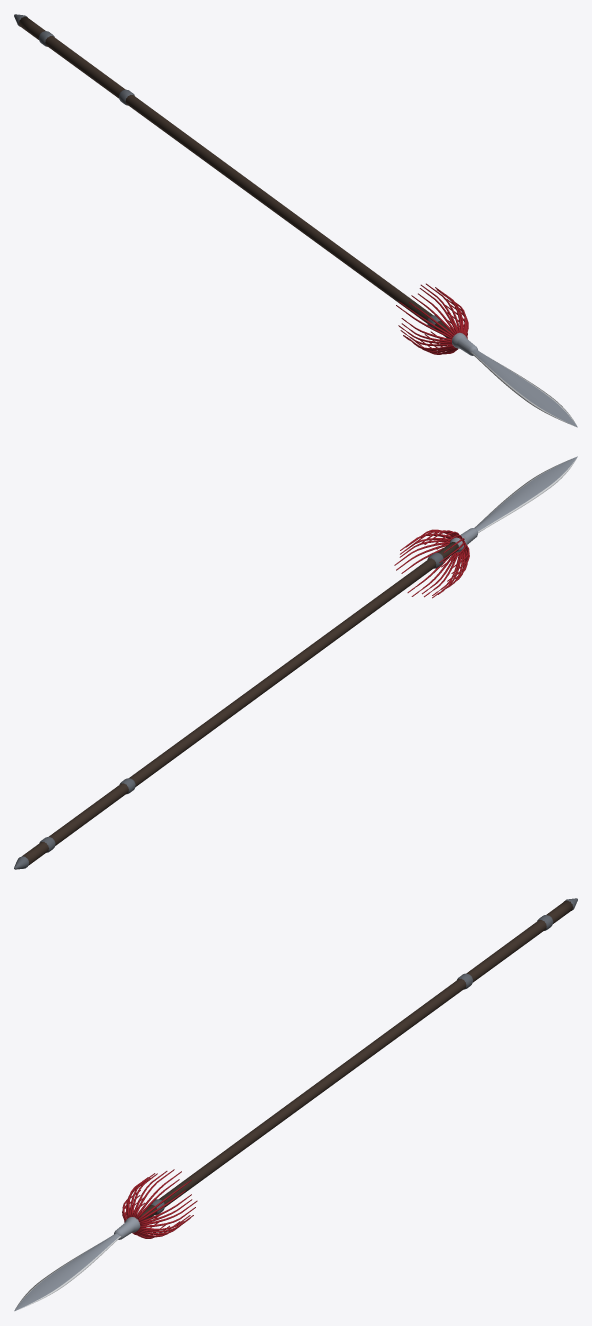
File: spear.glb
3 views of the same model, one above another, from view 1: azimuth 30°, elevation 25°; view 2: azimuth 150°, elevation 25°; view 3: azimuth 330°, elevation 25° (orthographic).
Parts seen in each view (by area): view 1: 枪刃; view 2: 枪刃; view 3: 枪刃.
Boxes of the visible parts, <box> form: 枪刃: <box>14,14,577,427</box>; 枪刃: <box>14,456,577,869</box>; 枪刃: <box>14,898,577,1311</box>.
Size of the model in its own units: 0.1657 by 0.1653 by 3.16.
